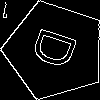D: (30, 25, 88, 75)
